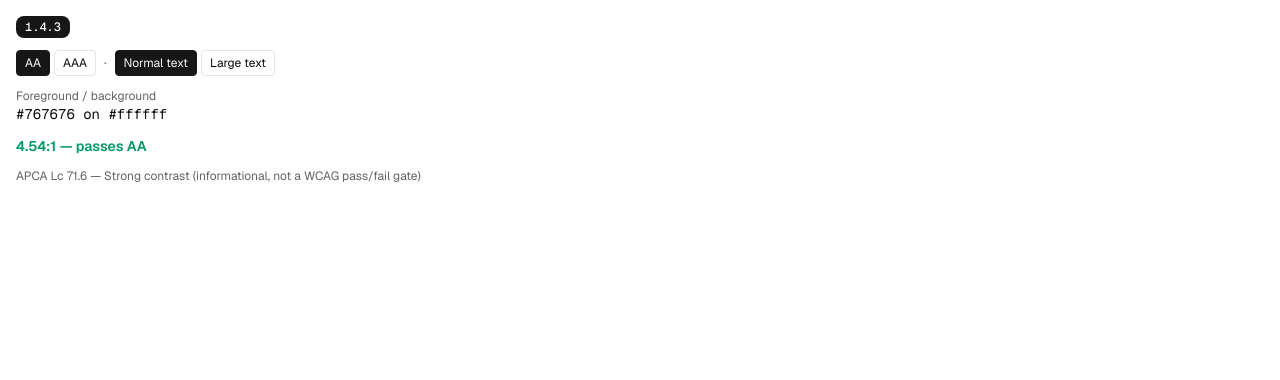
Test case: ContrastFix › switching the target to AAA can turn a passing-AA element into a needs-fix element
This screenshot has width=1280, height=380.
Expected: the text "Suggested fix" is not shown
Click the button with test id "target-level-aaa" at {"x": 75, "y": 63}, box left=54, top=50, right=96, bottom=76
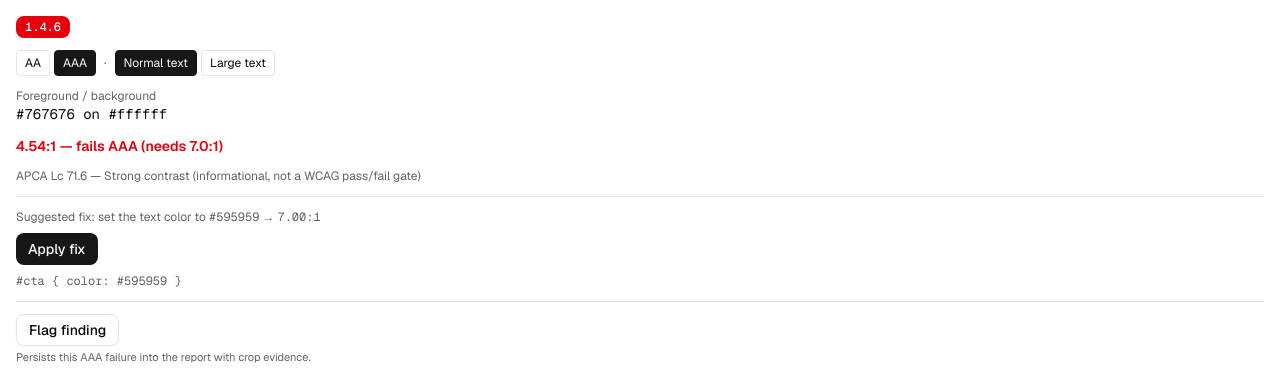
Expected: the text "Suggested fix: set the text color to #595959 → 7.00:1" is shown, left=16, top=209, right=321, bottom=225
